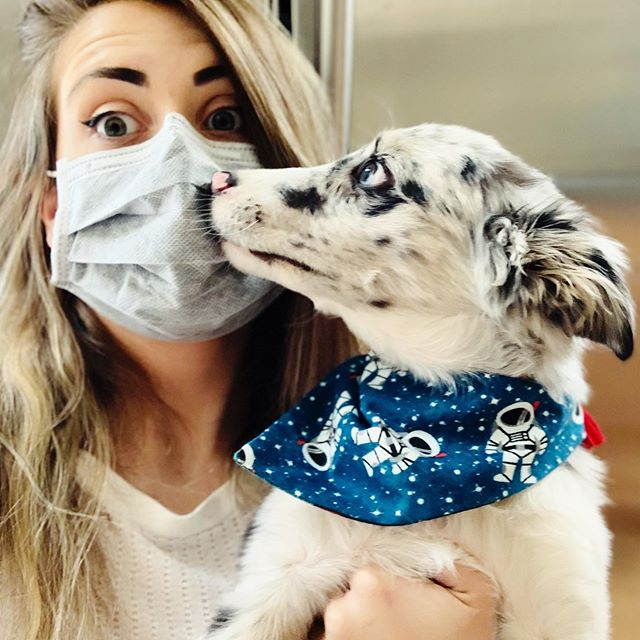surgical: (29, 113, 294, 344)
